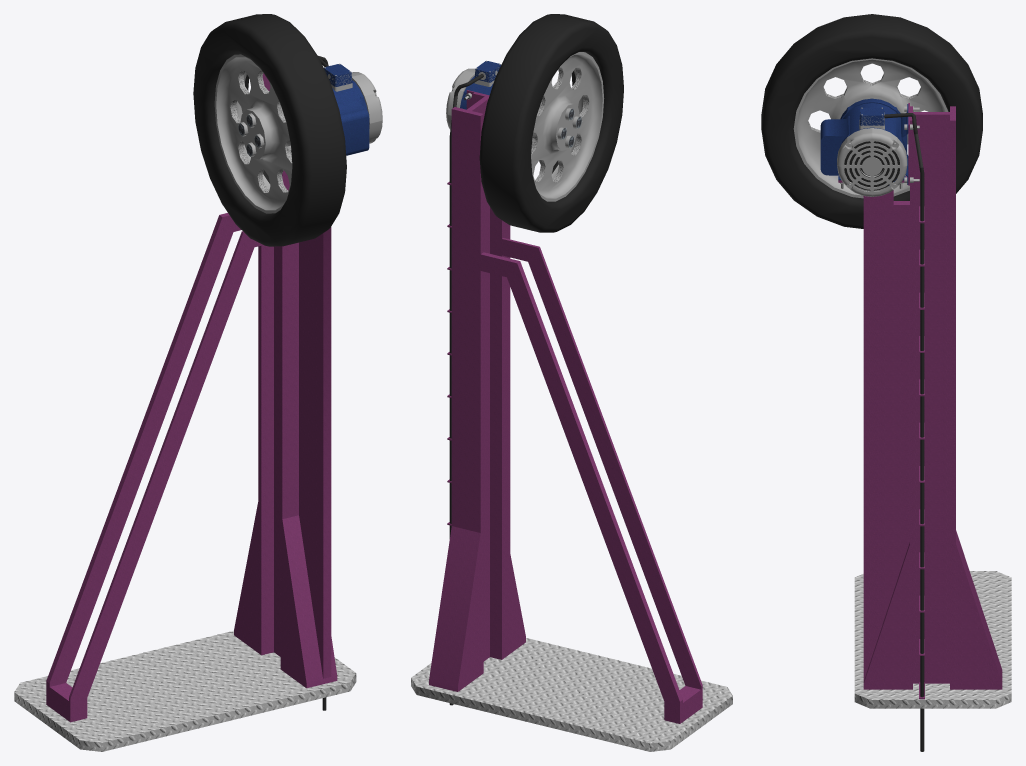
The model's file is Storage Transport (Independant).dae.
3 renders of one model, left to right at view 1: azimuth 30°, elevation 25°; view 2: azimuth 150°, elevation 25°; view 3: azimuth 270°, elevation 25°, orthographic. The views are drawn at different scales.
Parts seen in each view (by area): view 1: High_Detail (×3), wheel0 (×5), group_1; view 2: High_Detail (×3), wheel0 (×5), group_1; view 3: High_Detail (×6), wheel0 (×4), group_1.
Part boxes in pixels (x1=…): High_Detail (×3): x1=46, y1=72, x2=382, y2=722; wheel0 (×5): x1=193, y1=14, x2=346, y2=246; group_1: x1=14, y1=630, x2=356, y2=751; High_Detail (×3): x1=429, y1=68, x2=702, y2=723; wheel0 (×5): x1=479, y1=14, x2=623, y2=232; group_1: x1=411, y1=638, x2=732, y2=751; High_Detail (×6): x1=820, y1=103, x2=1002, y2=751; wheel0 (×4): x1=761, y1=14, x2=982, y2=228; group_1: x1=854, y1=571, x2=1011, y2=708.
Bounding box in the file's own units: 40.55 × 31.98 × 97.6.
8 materials, 4 textured.
